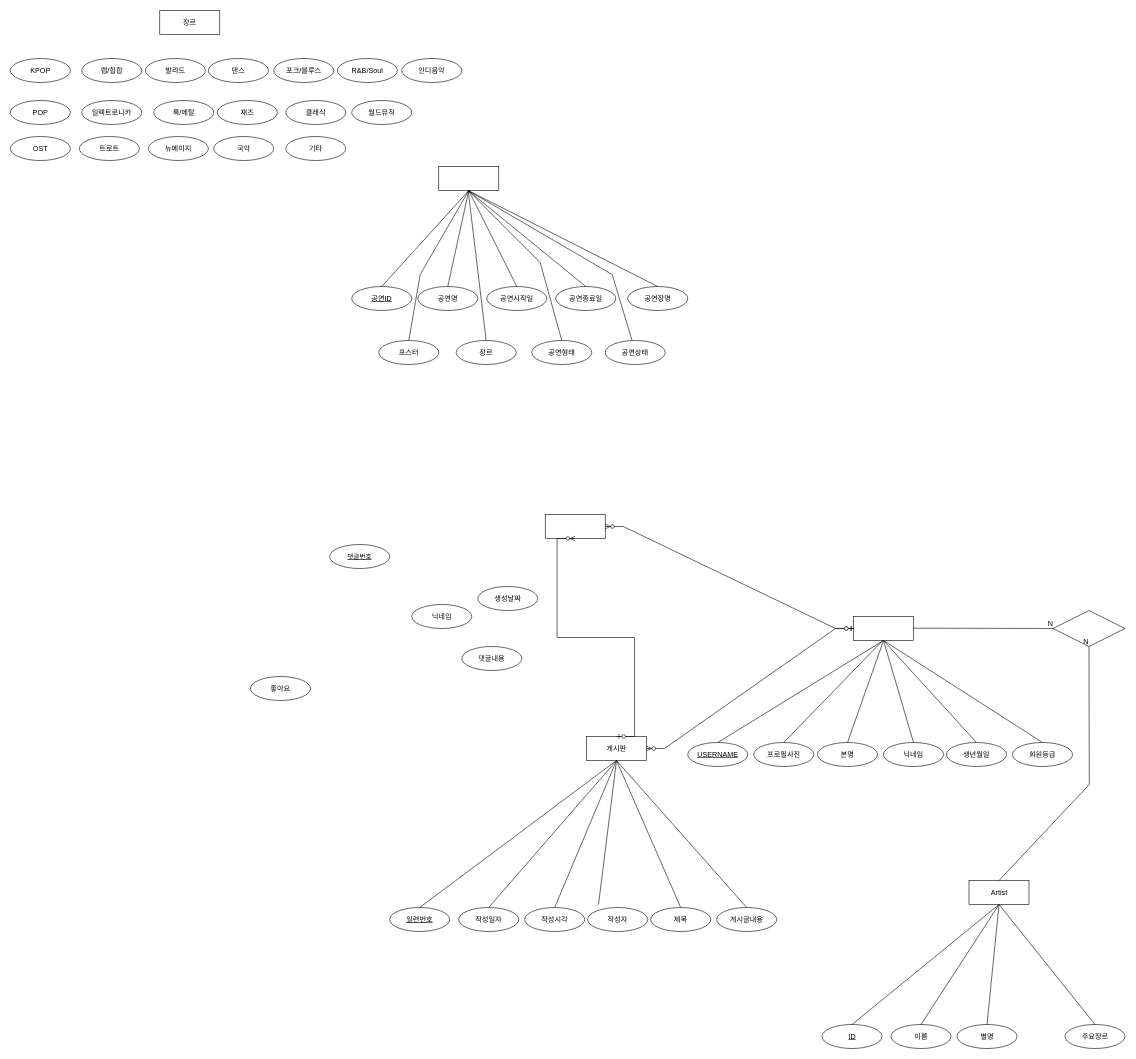
The diagram is 1136 pixels wide and 1059 high, and some of its shapes have lost their labels. The shapes that lost their labels are listed below. From the top down, each one's box as (x1, y1, x2, y2) in pixels, then its label:
(438, 166, 499, 190): 공연정보
(545, 514, 605, 538): 댓글
(853, 616, 914, 640): 사용자(USER)
(1052, 610, 1125, 646): 좋아하는 가수
